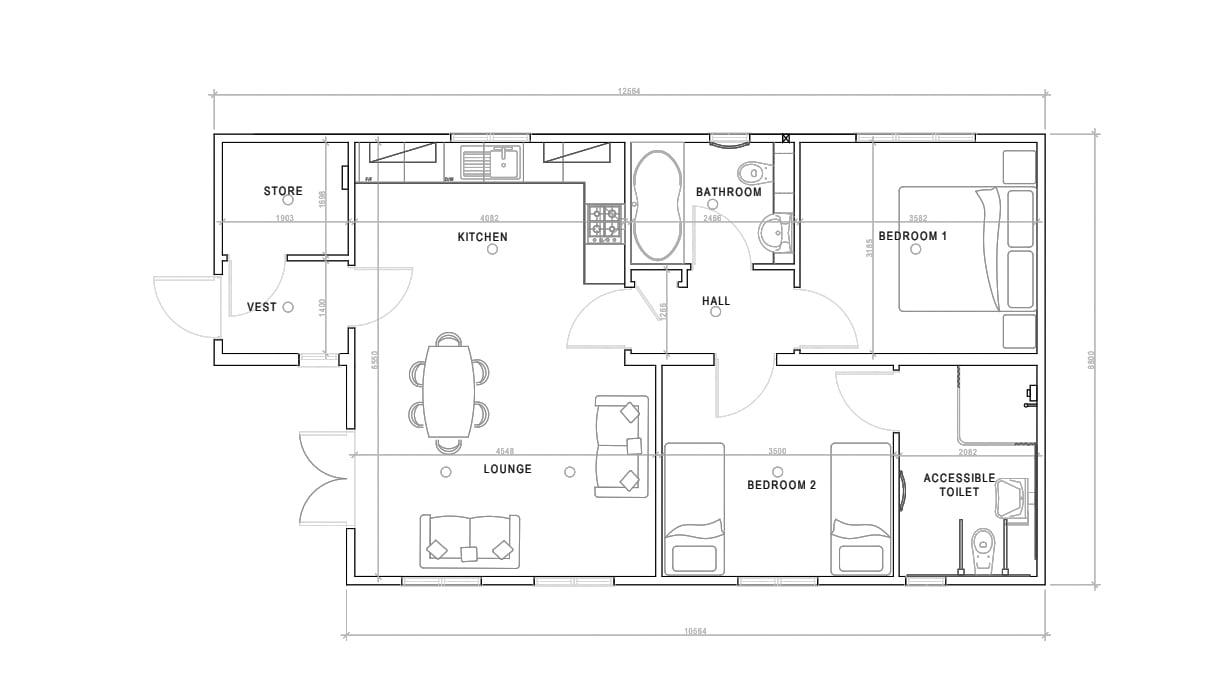room: (352, 138, 660, 580), (796, 137, 1041, 361), (659, 356, 895, 582), (896, 362, 1039, 582), (627, 139, 795, 267), (218, 137, 351, 257), (218, 257, 350, 359)
